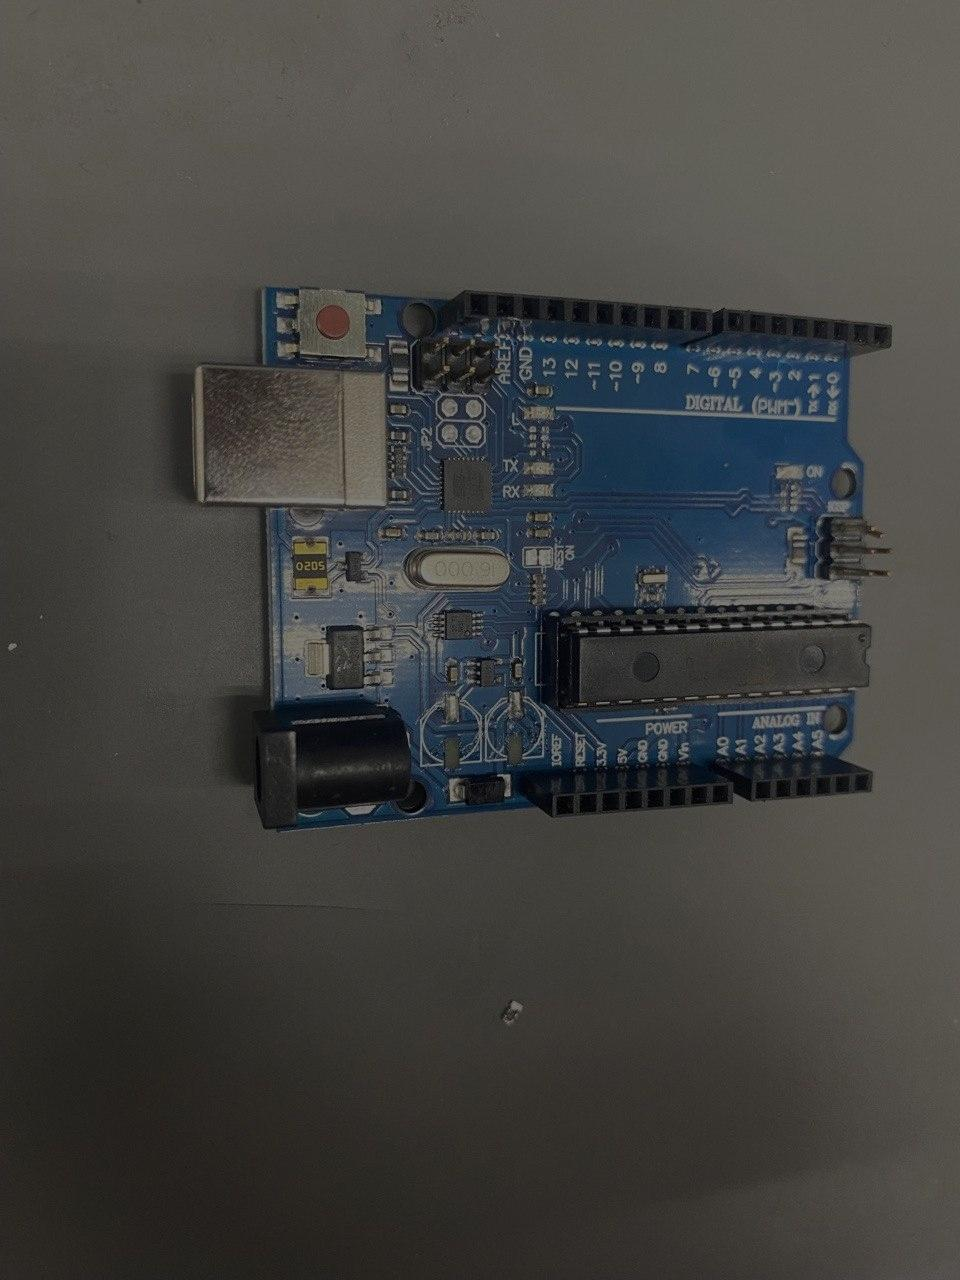ATmega328 chip: (543, 607, 871, 714)
Arduino board: (192, 286, 892, 833)
USB: (192, 362, 387, 512)
pins: (439, 289, 714, 349), (523, 764, 733, 818), (686, 308, 893, 360), (715, 755, 872, 802)
resistor: (390, 445, 409, 480), (532, 574, 547, 605)
